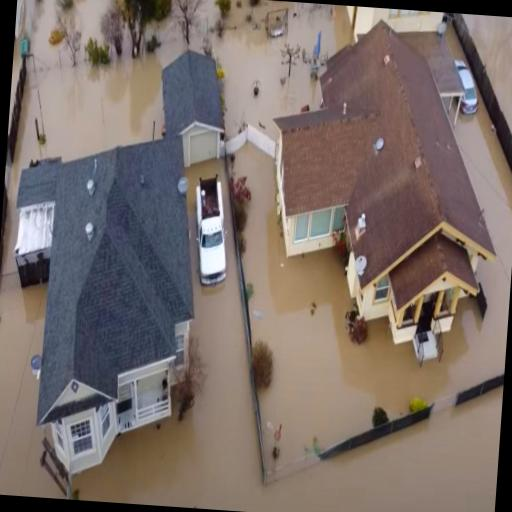flood: (72, 159, 503, 512), (234, 95, 512, 464), (7, 0, 186, 233), (189, 0, 354, 138), (0, 284, 63, 499), (463, 14, 512, 132)
house: (253, 8, 512, 386), (0, 118, 209, 499), (152, 44, 232, 172)
